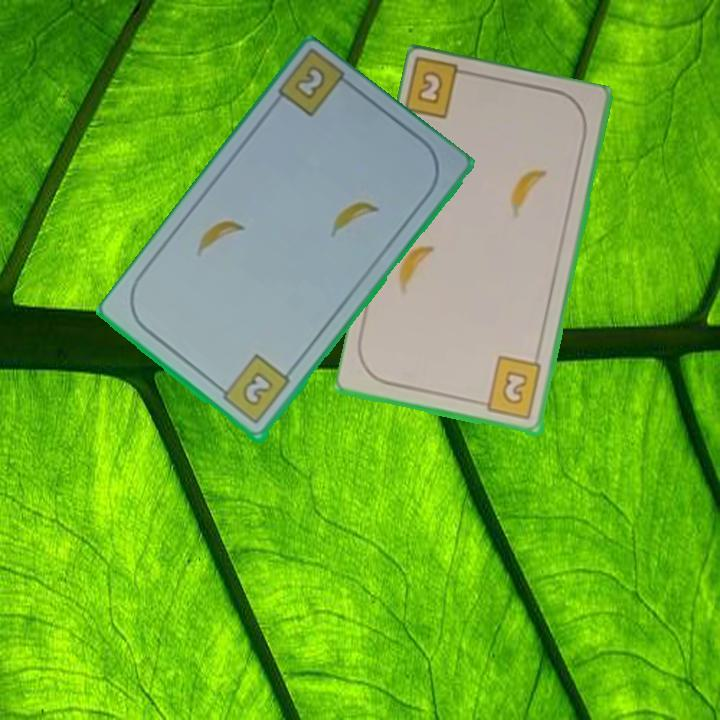2b: (213, 351, 293, 428), (403, 58, 478, 123), (475, 354, 545, 423), (290, 61, 329, 104)
